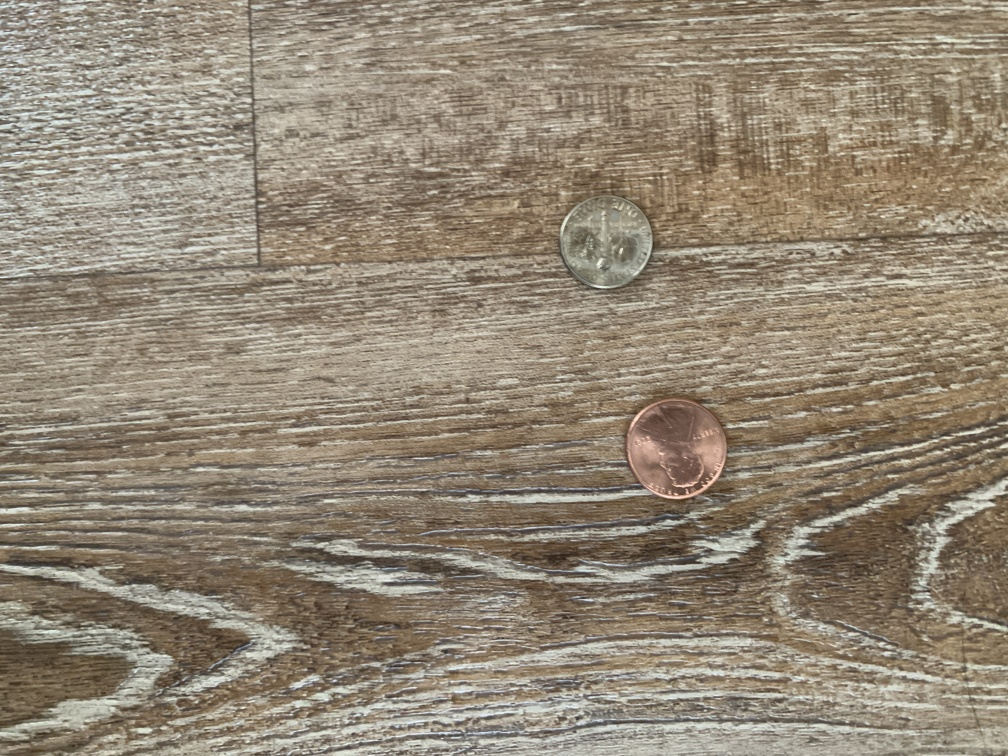dime: (557, 190, 657, 292)
penny: (621, 394, 733, 505)
